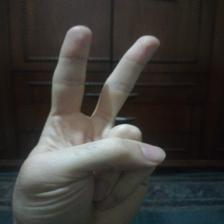two: (28, 20, 176, 219)
